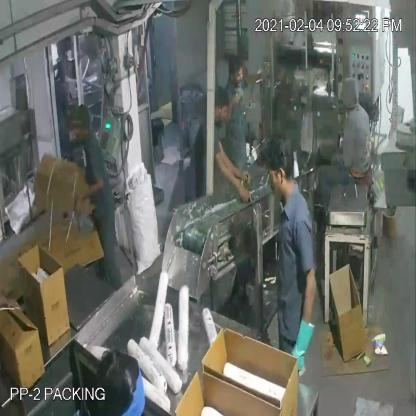glove: (291, 302, 318, 381)
no_glove: (210, 150, 252, 204), (217, 140, 255, 185), (70, 168, 104, 201)
